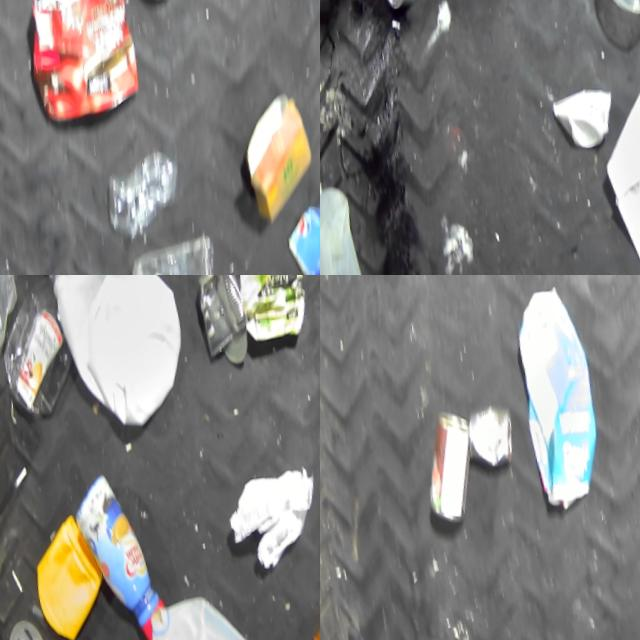can: (419, 405, 491, 529), (187, 275, 262, 373), (468, 400, 526, 474)
milk_jug: (38, 275, 205, 442), (142, 582, 292, 640), (320, 175, 399, 275)
non_white_jug: (503, 279, 624, 519)
plastic_bottle: (105, 147, 194, 242)
